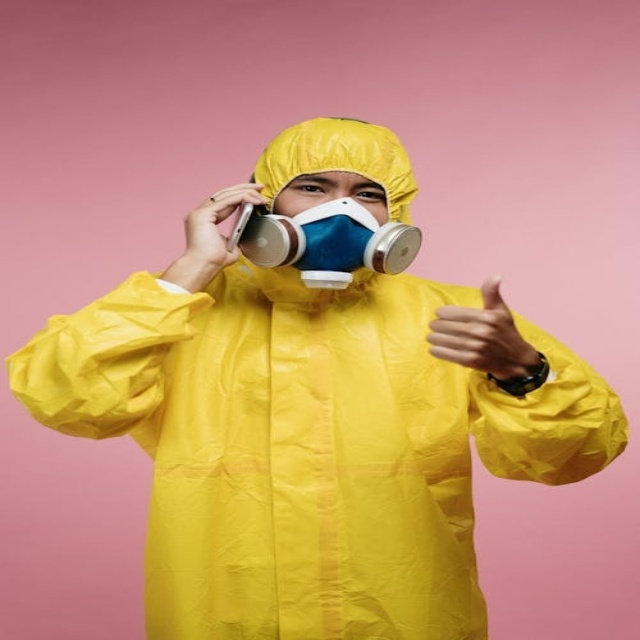Mascara: (235, 194, 421, 286)
Sin_gafas: (283, 169, 390, 204)
Sin_guantes: (425, 275, 541, 379), (174, 178, 275, 268)
